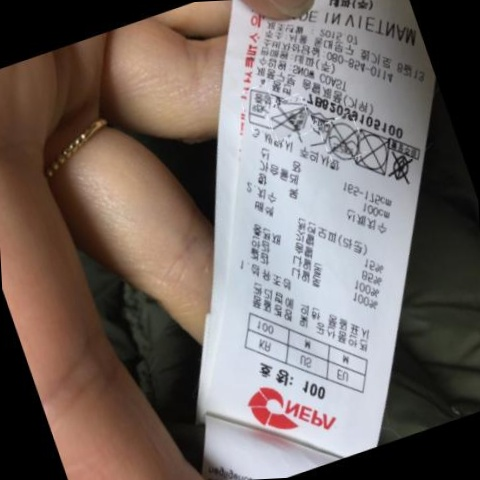DN_bleach: (272, 103, 306, 134)
DN_dry_clean: (324, 118, 357, 160)
DN_tumble_dry: (352, 127, 390, 176)
